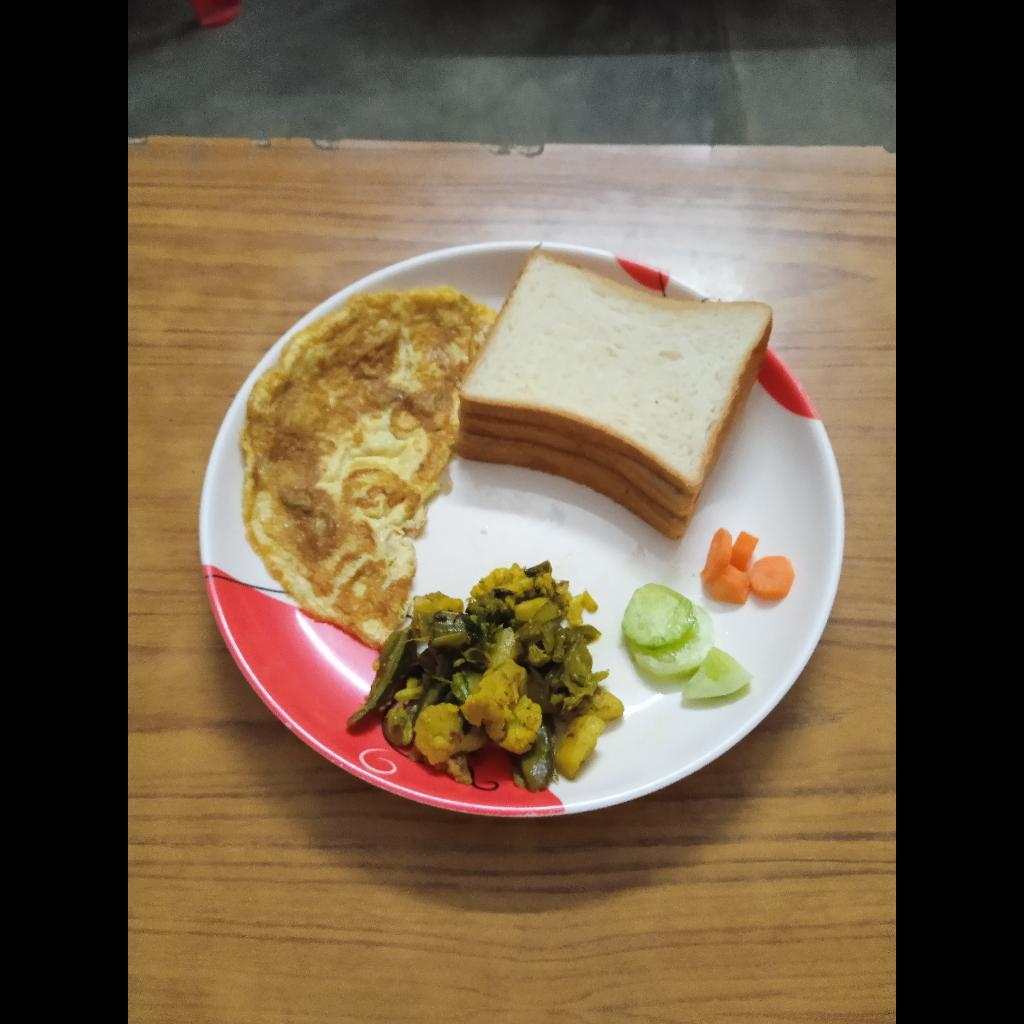bread: (455, 247, 770, 540)
carrot: (701, 530, 788, 599)
cucumber: (623, 590, 748, 702)
egg-poached: (239, 287, 483, 639)
vegetable: (387, 566, 615, 789)
